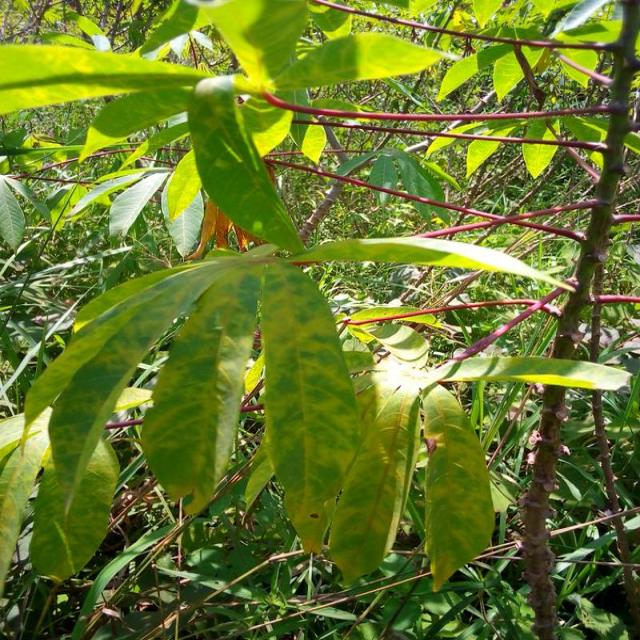cassava leaf: (2, 1, 637, 602), (260, 256, 362, 554), (328, 376, 422, 586), (422, 381, 497, 592)
